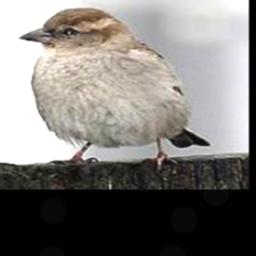Sparrow: (18, 6, 212, 172)
